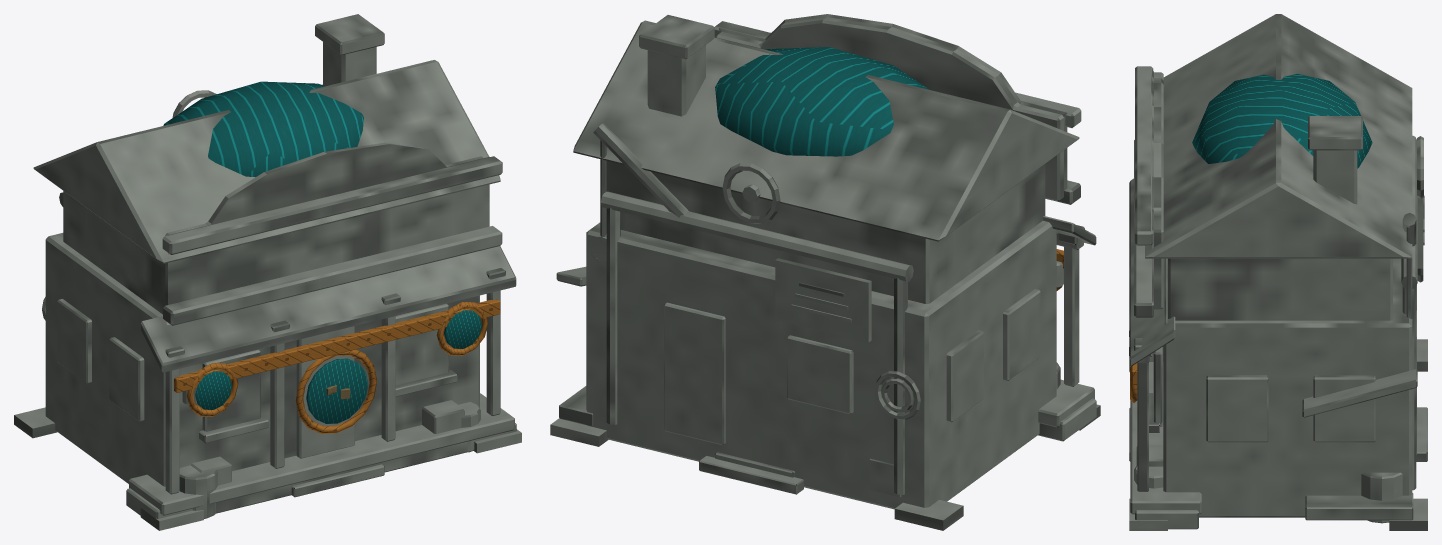
File: general-store.e8.glb
The picture shows the model from 3 angles, left to right: view 1: azimuth 30°, elevation 25°; view 2: azimuth 150°, elevation 25°; view 3: azimuth 270°, elevation 25°; orthographic projection. The views are drawn at different scales.
Parts seen in each view (by area): view 1: GeneralStoreE8DomeHabitat; view 2: GeneralStoreE8DomeHabitat; view 3: GeneralStoreE8DomeHabitat.
Boxes of the visible parts, box(x1,y1,x2,y2) form: GeneralStoreE8DomeHabitat: box(14, 14, 521, 530); GeneralStoreE8DomeHabitat: box(550, 14, 1100, 530); GeneralStoreE8DomeHabitat: box(1129, 14, 1427, 530).
Bounding box in the file's own units: 4.7 × 4.44 × 3.26.
1 material, 1 textured.
